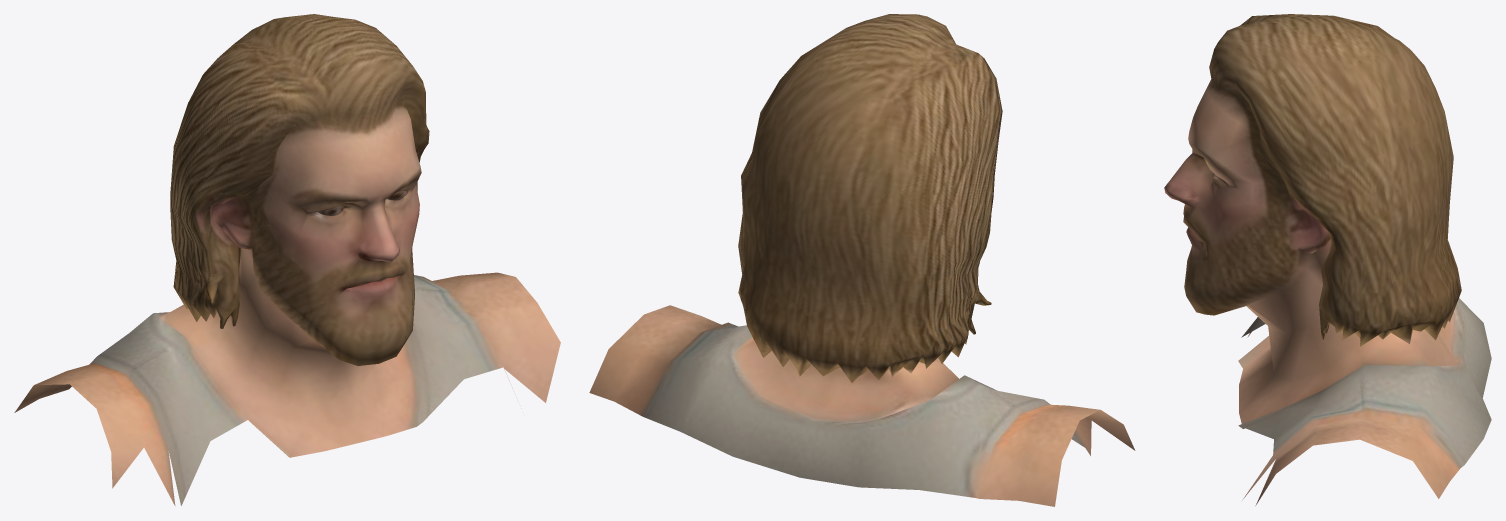
File: character_head.glb
3 views of the same model, side by side, from view 1: azimuth 30°, elevation 25°; view 2: azimuth 150°, elevation 25°; view 3: azimuth 270°, elevation 25° (orthographic). The views are drawn at different scales.
Visible parts, largest first — view 1: tripo_node_bc81f8f9-a104-44a7-afac-f094b41faff7; view 2: tripo_node_bc81f8f9-a104-44a7-afac-f094b41faff7; view 3: tripo_node_bc81f8f9-a104-44a7-afac-f094b41faff7.
Part boxes in pixels (left/top/right/bottom): tripo_node_bc81f8f9-a104-44a7-afac-f094b41faff7: left=14, top=14, right=560, bottom=505; tripo_node_bc81f8f9-a104-44a7-afac-f094b41faff7: left=589, top=14, right=1135, bottom=506; tripo_node_bc81f8f9-a104-44a7-afac-f094b41faff7: left=1164, top=14, right=1491, bottom=505.
Size of the model in its own units: 0.4572 by 0.3768 by 0.2803.
Materials: 1 (1 with a texture image).
